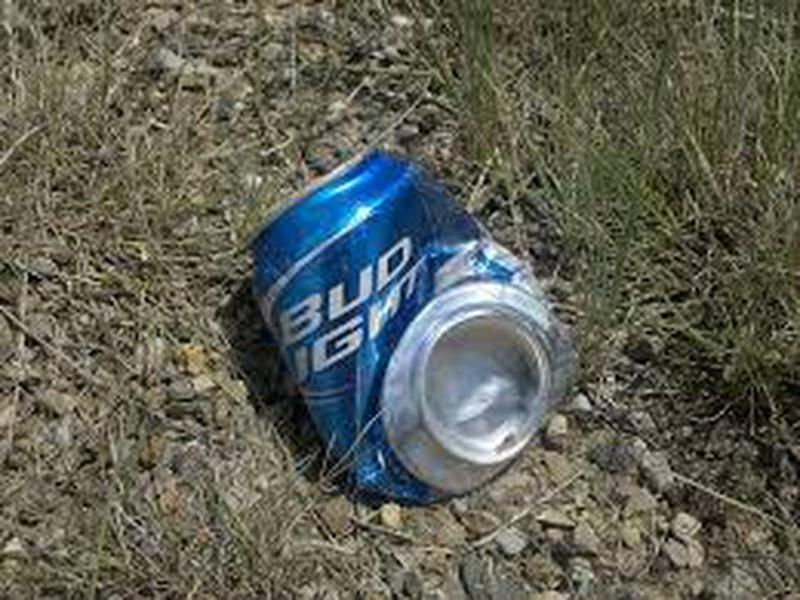can: (234, 150, 579, 511)
